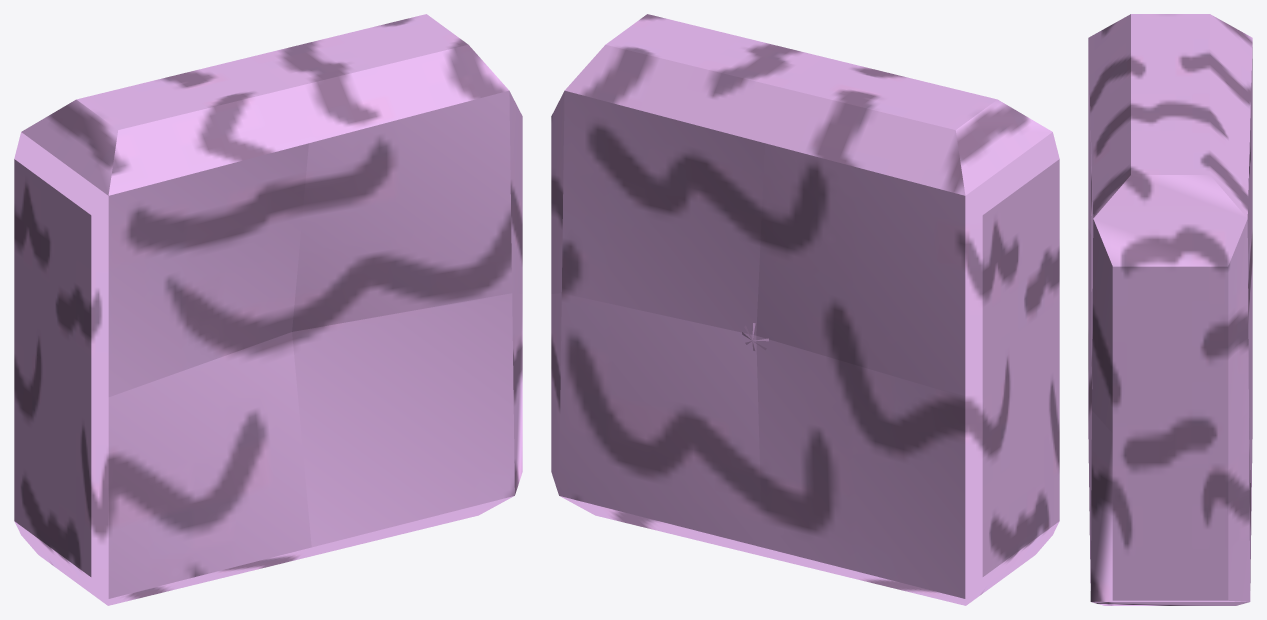
File: item-bryce.glb
3 renders of one model, left to right at view 1: azimuth 30°, elevation 25°; view 2: azimuth 150°, elevation 25°; view 3: azimuth 270°, elevation 25°, orthographic. The views are drawn at different scales.
Size of the model in its own units: 0.02 by 0.02 by 0.00689.
Materials: 1 (1 with a texture image).
